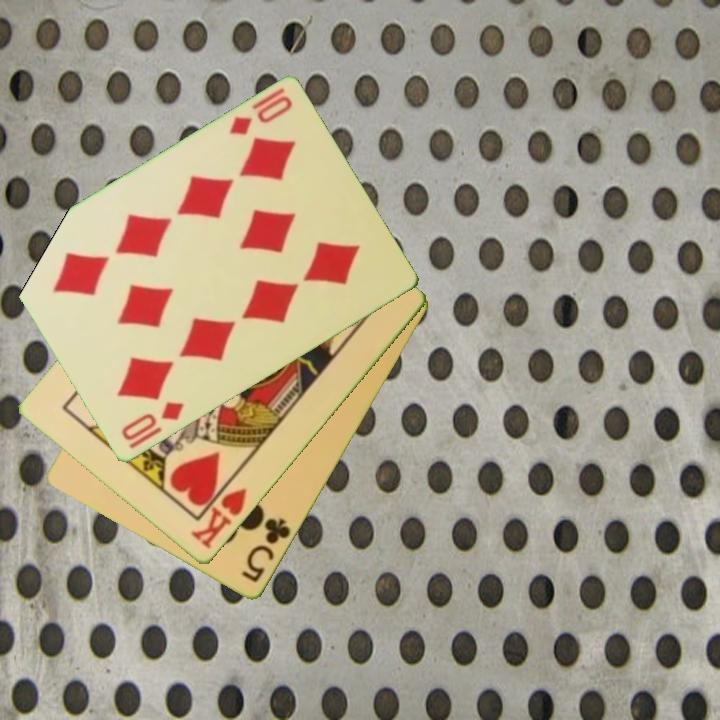10d: (225, 92, 296, 139), (117, 398, 187, 445)
5c: (238, 514, 294, 587)
Kh: (187, 473, 250, 553)
